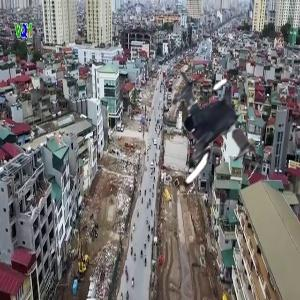drone: (130, 63, 273, 206)
